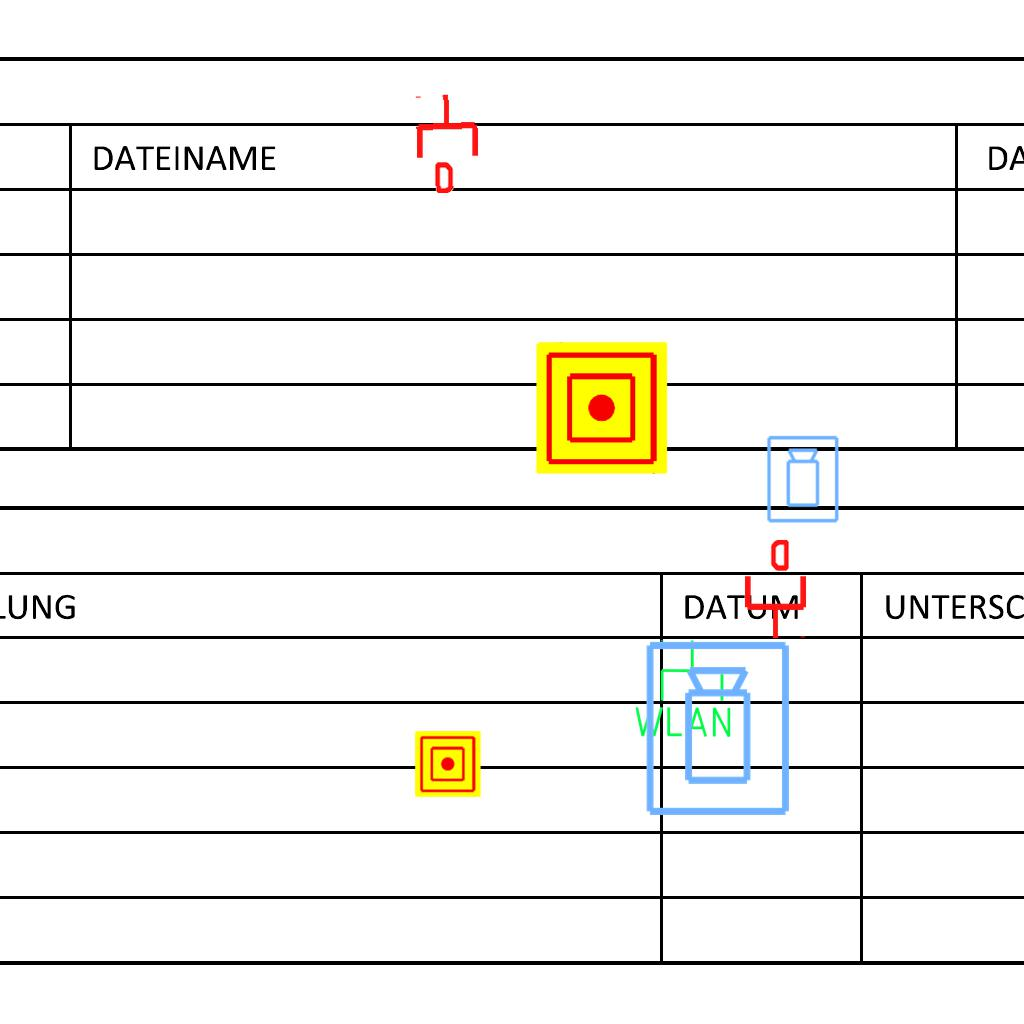Datenanschluss_einfach: (411, 91, 484, 195), (741, 540, 810, 640)
KFO_Kamera_mit_Festobjektiv: (642, 638, 796, 820), (765, 434, 842, 525)
NAM-Nichtautomatischer_Melder: (536, 342, 668, 474), (415, 731, 481, 797)
WLAN: (630, 637, 735, 741)
